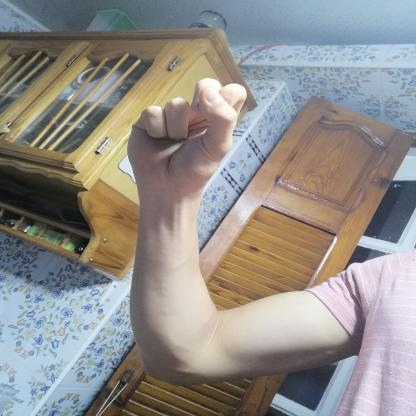QAAF: (110, 72, 254, 204)
